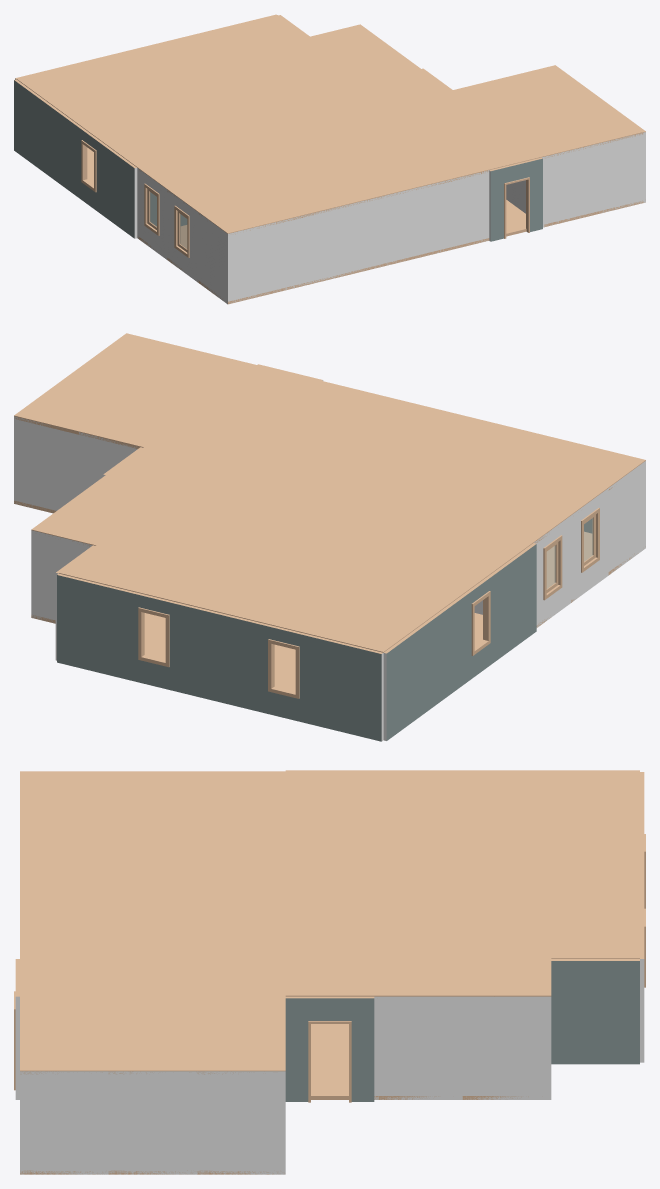
File: Appart.glb
3 views of the same model, one above another, from view 1: azimuth 30°, elevation 25°; view 2: azimuth 150°, elevation 25°; view 3: azimuth 270°, elevation 25° (orthographic). The views are drawn at different scales.
Visible parts, largest first — view 1: wall(Clone).001, wall(Clone).002, wall(Clone), wall(Clone).003, wall(Clone).004, wall(Clone).021, wall(Clone).022, wallDoorway(Clone).002, wall(Clone).030, wall(Clone).032, wall(Clone).034, wall(Clone).013 (+53 smaller); view 2: wall(Clone).029, wall(Clone).031, wall(Clone).033, wallWindow(Clone).004, wall(Clone).023, wallWindow(Clone).005, wall(Clone).034, wall(Clone).030, wall(Clone).032, wall(Clone).013, wallWindow(Clone).002, wallWindow(Clone).001 (+52 smaller); view 3: wall(Clone).035, wall(Clone).019, wall(Clone).028, wall(Clone).018, wall(Clone).020, wall(Clone).027, wallDoorway(Clone).003, floorFull(Clone).059, floorFull(Clone).084, floorFull(Clone).086, floorFull(Clone).058, floorFull(Clone).060 (+46 smaller).
Boxes of the visible parts, box(x1,y1,x2,y2) form: wall(Clone).001: box(280, 208, 332, 291); wall(Clone).002: box(332, 196, 384, 278); wall(Clone): box(226, 221, 279, 303); wall(Clone).003: box(384, 183, 436, 265); wall(Clone).004: box(437, 170, 489, 253); wall(Clone).021: box(593, 132, 645, 213); wall(Clone).022: box(543, 145, 593, 226); wallDoorway(Clone).002: box(489, 157, 542, 241); wall(Clone).030: box(104, 145, 137, 238); wall(Clone).032: box(44, 101, 76, 194); wall(Clone).034: box(14, 79, 46, 172); wall(Clone).013: box(197, 212, 229, 304); wall(Clone).029: box(316, 637, 383, 741); wall(Clone).031: box(187, 605, 253, 709); wall(Clone).033: box(57, 573, 123, 678); wallWindow(Clone).004: box(251, 621, 317, 725); wall(Clone).023: box(14, 417, 78, 510); wallWindow(Clone).005: box(122, 589, 188, 693); wall(Clone).034: box(383, 625, 424, 740); wall(Clone).030: box(496, 543, 536, 658); wall(Clone).032: box(421, 598, 461, 713); wall(Clone).013: box(608, 461, 645, 573); wallWindow(Clone).002: box(459, 570, 499, 685); wallWindow(Clone).001: box(571, 488, 608, 602); wall(Clone).035: box(551, 959, 639, 1064); wall(Clone).019: box(108, 1071, 197, 1174); wall(Clone).028: box(462, 996, 551, 1099); wall(Clone).018: box(197, 1071, 285, 1174); wall(Clone).020: box(20, 1071, 108, 1174); wall(Clone).027: box(374, 996, 462, 1099); wallDoorway(Clone).003: box(285, 996, 374, 1102); floorFull(Clone).059: box(108, 1033, 197, 1074); floorFull(Clone).084: box(462, 958, 551, 996); floorFull(Clone).086: box(285, 958, 374, 996); floorFull(Clone).058: box(197, 1033, 285, 1074); floorFull(Clone).060: box(20, 1033, 108, 1074).
Size of the model in its own units: 8.07 by 1.3 by 7.14.
